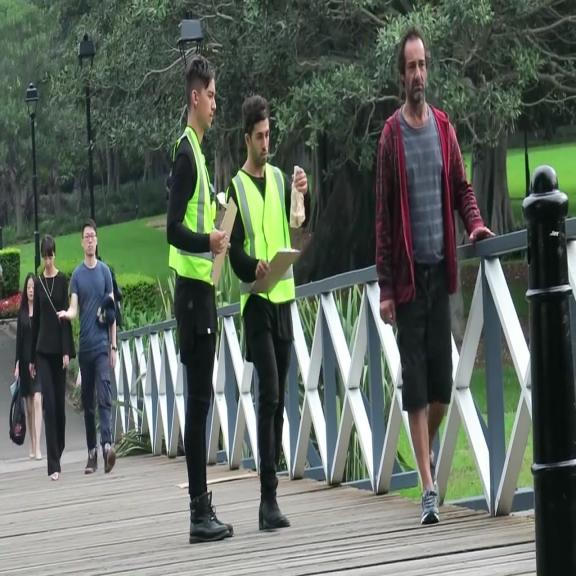safety_vest: (225, 164, 296, 312), (168, 124, 216, 283)
